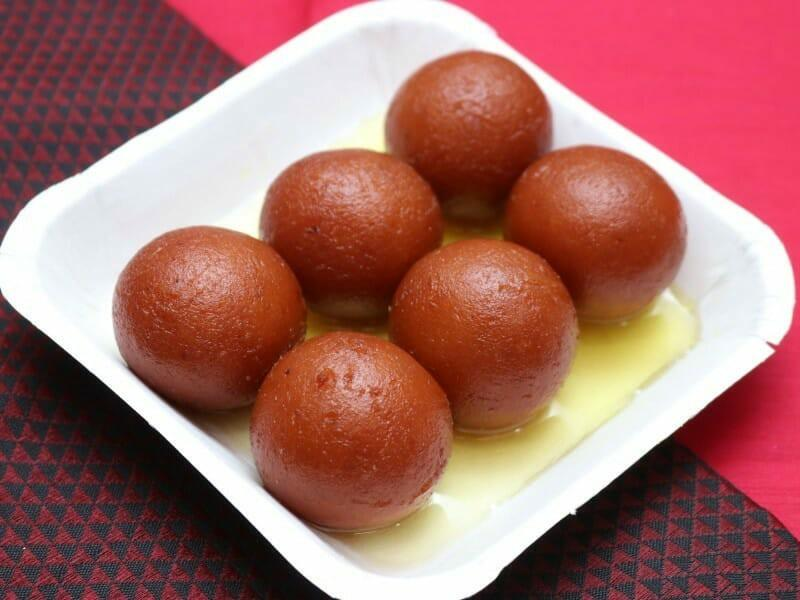GulabJamun: (249, 334, 455, 531), (112, 224, 309, 414), (389, 238, 580, 432), (259, 148, 448, 324), (503, 145, 685, 324), (383, 49, 553, 224)
